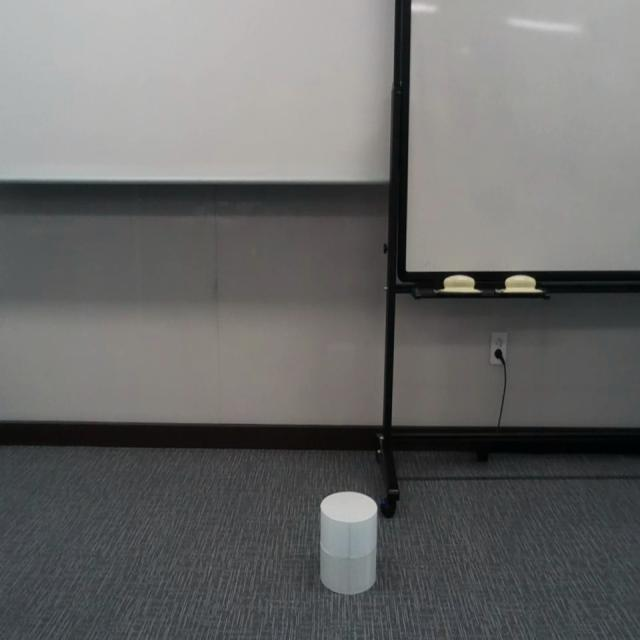cylinder: (320, 490, 378, 594)
